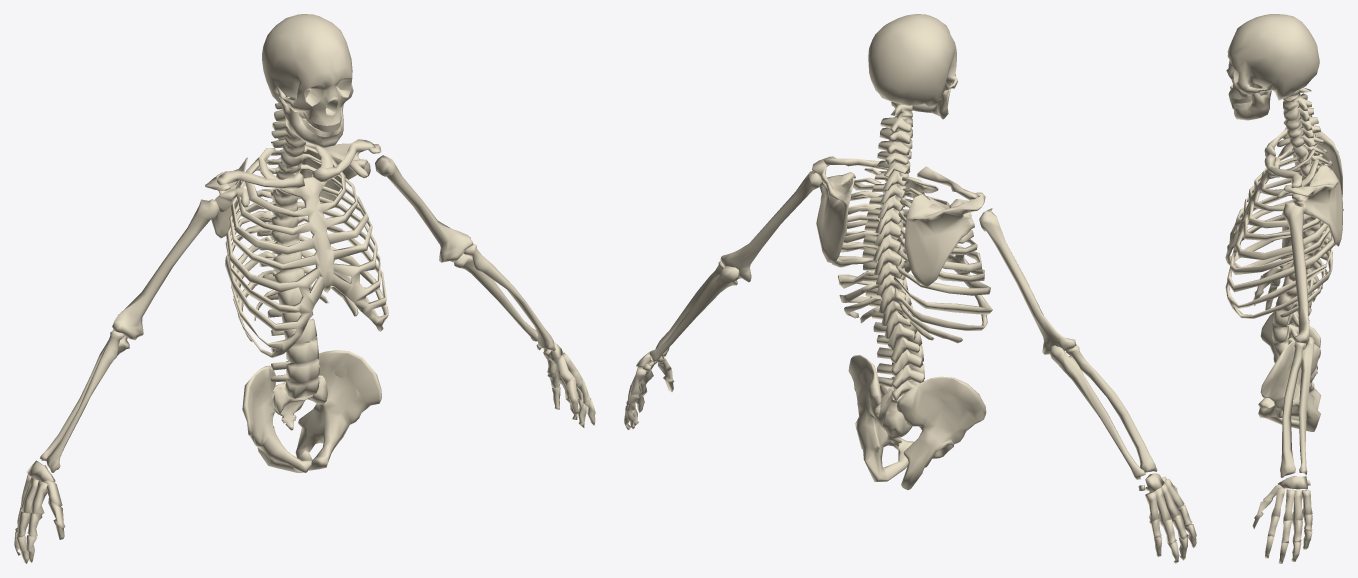
Rendered from body.obj.
3 renders of one model, left to right at view 1: azimuth 30°, elevation 25°; view 2: azimuth 150°, elevation 25°; view 3: azimuth 270°, elevation 25°, orthographic. The views are drawn at different scales.
Parts seen in each view (by area): view 1: Left_Hand; view 2: Left_Hand; view 3: Left_Hand.
Boxes of the visible parts, x1,y1,x2,y2 form: Left_Hand: (14, 14, 595, 563); Left_Hand: (624, 14, 1196, 563); Left_Hand: (1225, 14, 1343, 563).
Size of the model in its own units: 45.25 by 36.46 by 9.17.
